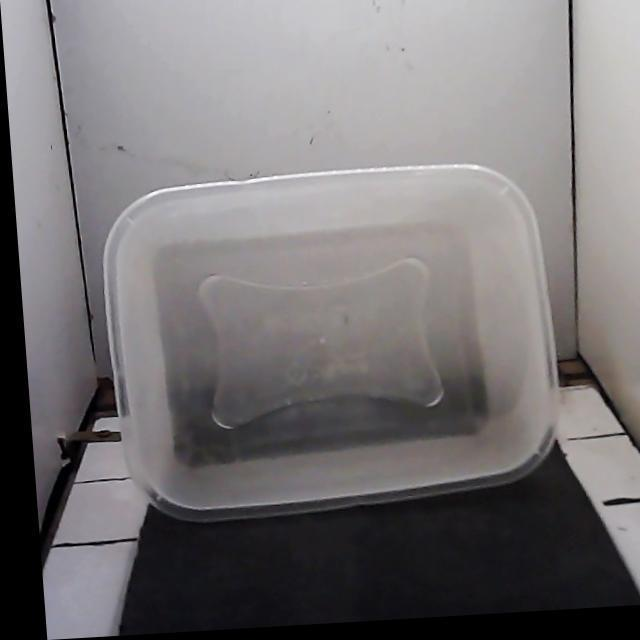plastico: (106, 165, 556, 520)
